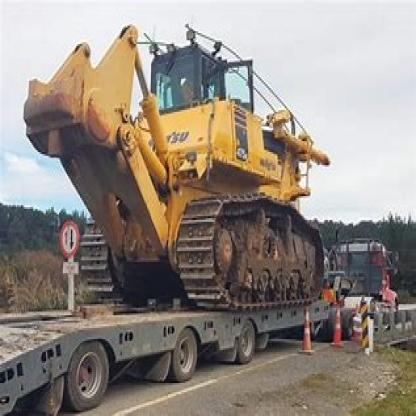bull_dozer/loader/grader: (18, 26, 340, 308)
